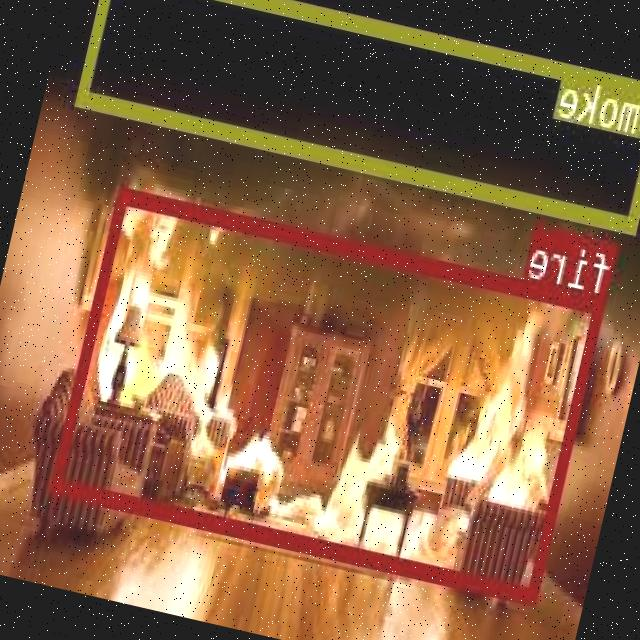fire: (50, 186, 608, 603)
smoke: (77, 0, 640, 232)
